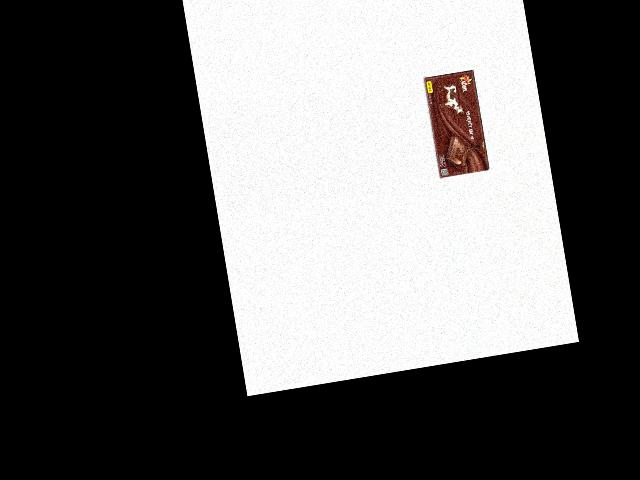chocolate: (422, 67, 490, 177)
